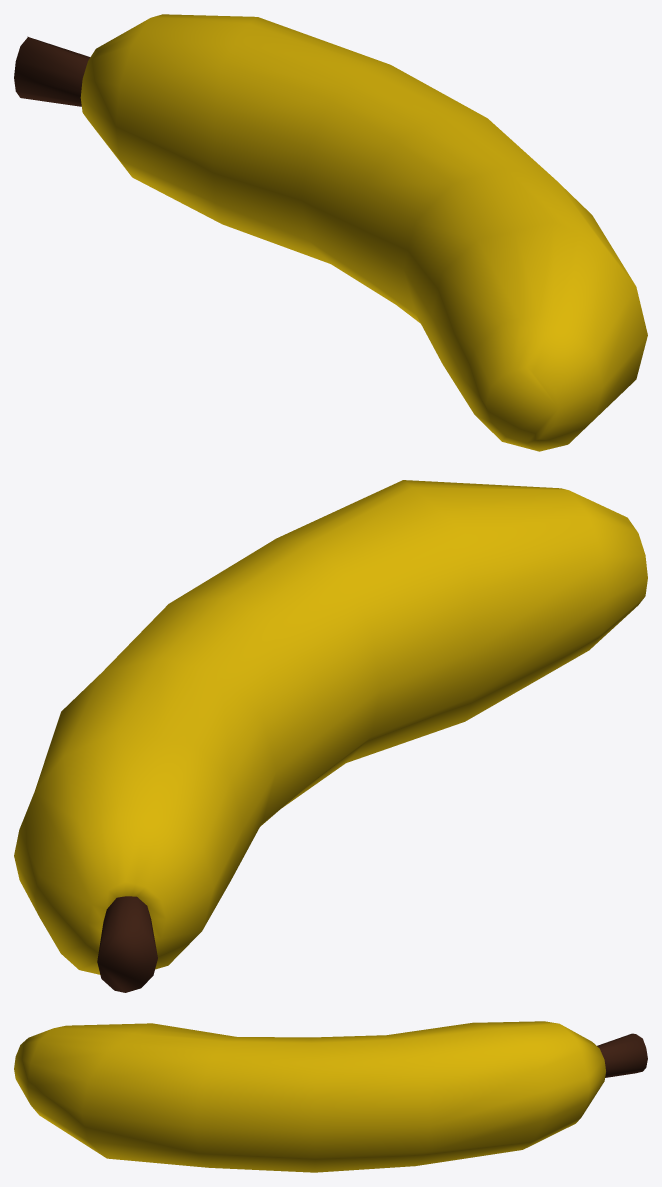
File: BananaSmooth 1.fbx
3 views of the same model, one above another, from view 1: azimuth 30°, elevation 25°; view 2: azimuth 150°, elevation 25°; view 3: azimuth 270°, elevation 25° (orthographic). The views are drawn at different scales.
Visible parts, largest first — view 1: Banana, Banana.001; view 2: Banana, Banana.001; view 3: Banana, Banana.001.
Boxes of the visible parts, left/top/right/bottom form: Banana: left=80, top=14, right=647, bottom=451; Banana.001: left=14, top=36, right=90, bottom=106; Banana: left=14, top=480, right=647, bottom=974; Banana.001: left=97, top=896, right=157, bottom=992; Banana: left=14, top=1021, right=605, bottom=1172; Banana.001: left=597, top=1033, right=647, bottom=1077.
Size of the model in its own units: 51.42 by 35.87 by 164.
